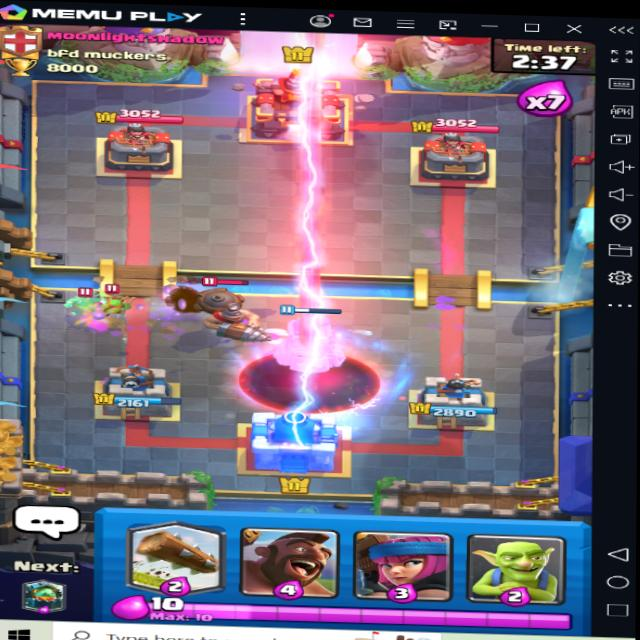lightning: (273, 44, 342, 459)
mighty-miner: (184, 276, 272, 349)
spear-goblin: (98, 289, 140, 316)
void: (238, 347, 379, 417)
